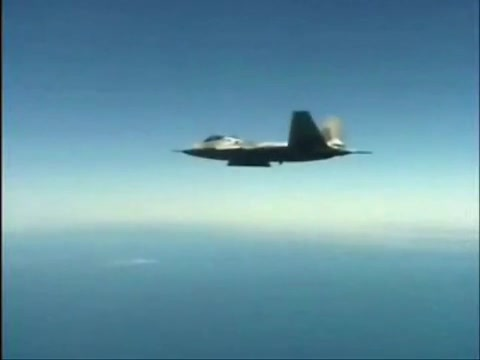aeroplane: (172, 110, 375, 168)
